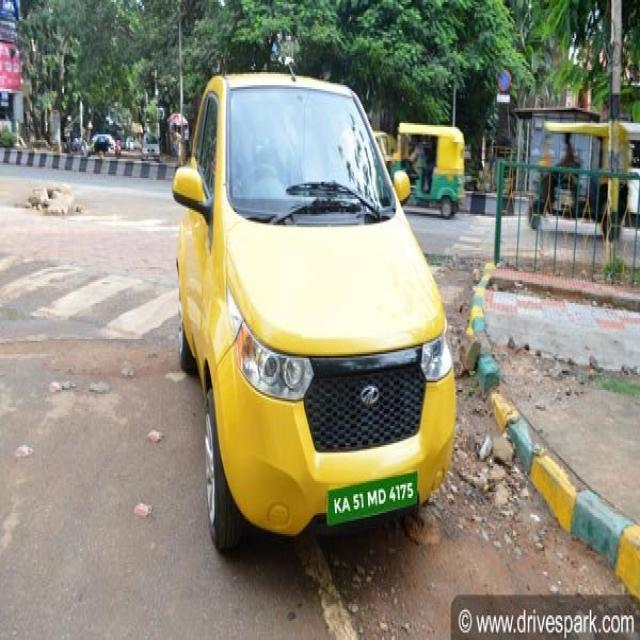plate: (324, 470, 420, 526)
